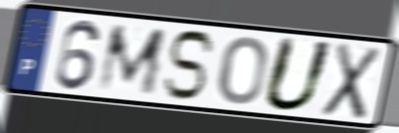6: (54, 17, 102, 92)
M: (95, 24, 169, 97)
O: (216, 35, 269, 107)
S: (160, 28, 217, 103)
U: (260, 34, 338, 115)
X: (319, 40, 384, 123)
